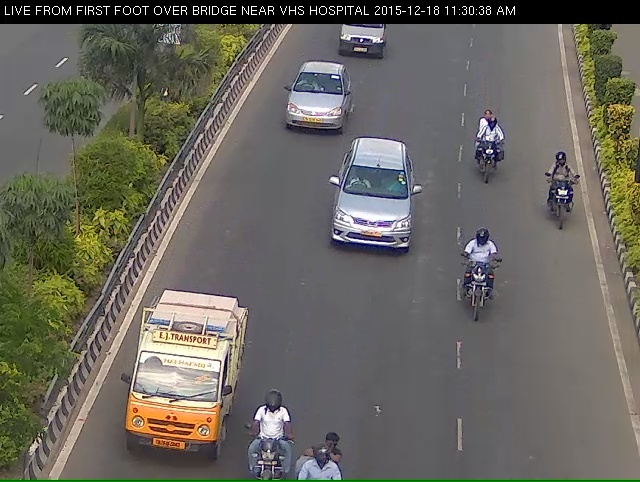Car: (118, 291, 233, 474), (335, 142, 428, 275), (281, 62, 348, 139)
Person: (453, 241, 503, 347), (547, 157, 584, 253), (472, 117, 507, 193)
